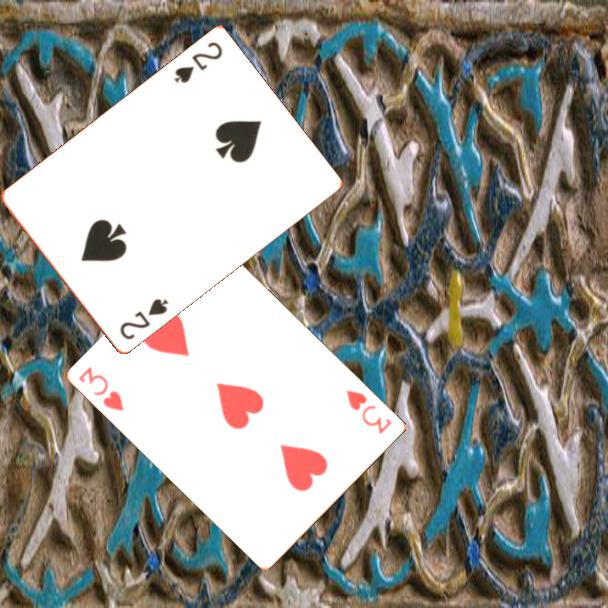h03: (342, 386, 395, 437), (75, 363, 127, 414)
s02: (170, 39, 226, 87), (116, 295, 171, 343)
